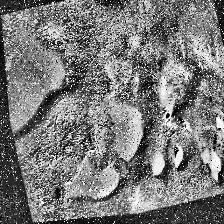pothole: (2, 15, 85, 135), (49, 148, 127, 212), (102, 94, 154, 168), (148, 60, 196, 124), (198, 145, 224, 191), (164, 136, 194, 174), (142, 149, 170, 181), (208, 113, 224, 142)
